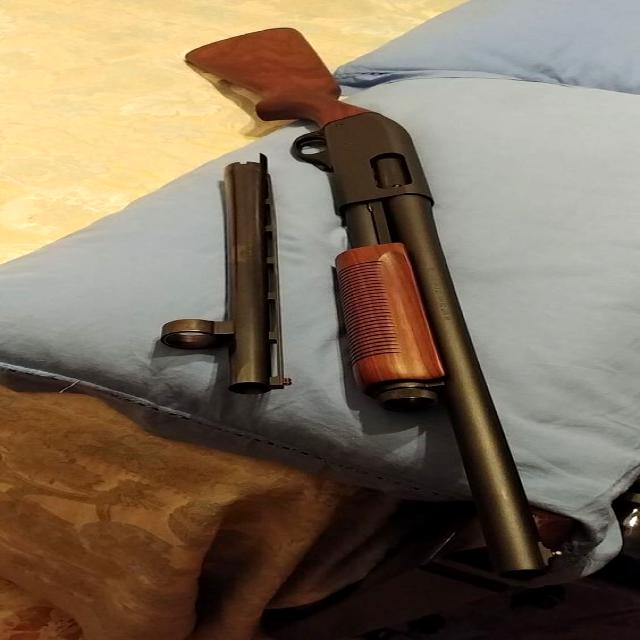shotgun: (182, 17, 578, 587)
